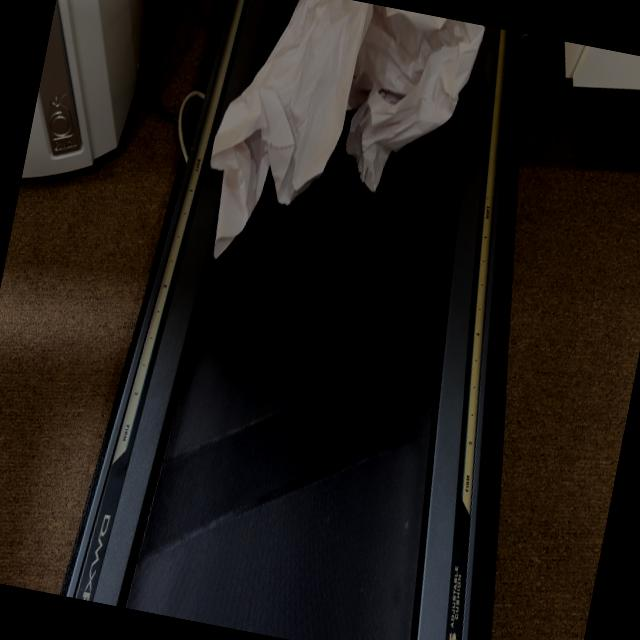Recycle: (187, 0, 489, 309)
